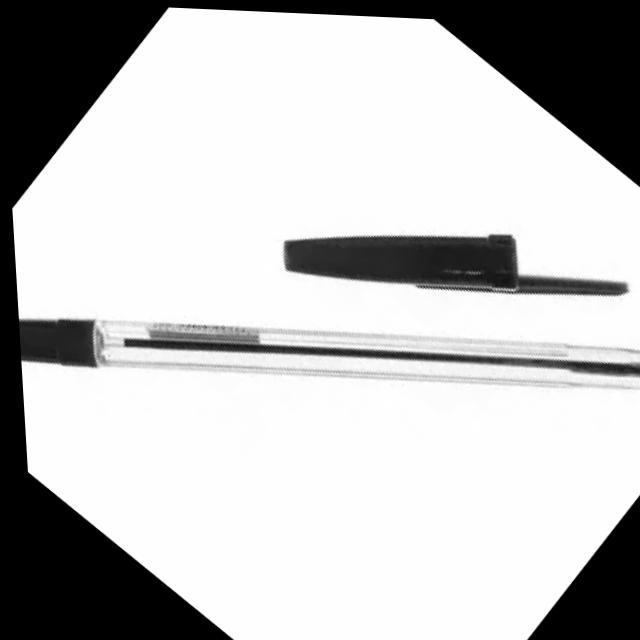pencil: (0, 218, 640, 458)
